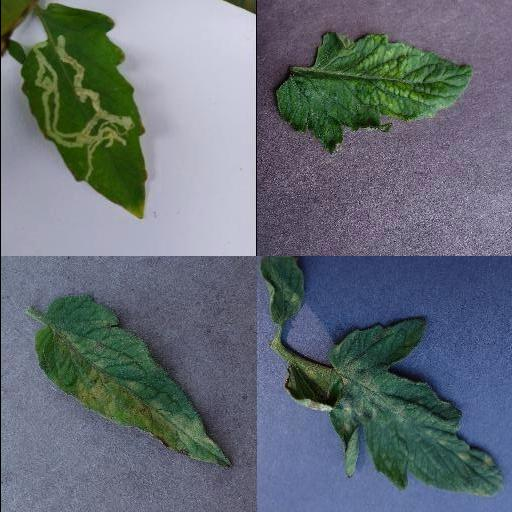Leaf Miner: (20, 2, 148, 221)
Leaf Mold: (284, 317, 502, 497), (33, 298, 233, 470)
Mosaic Virus: (277, 32, 475, 152)
